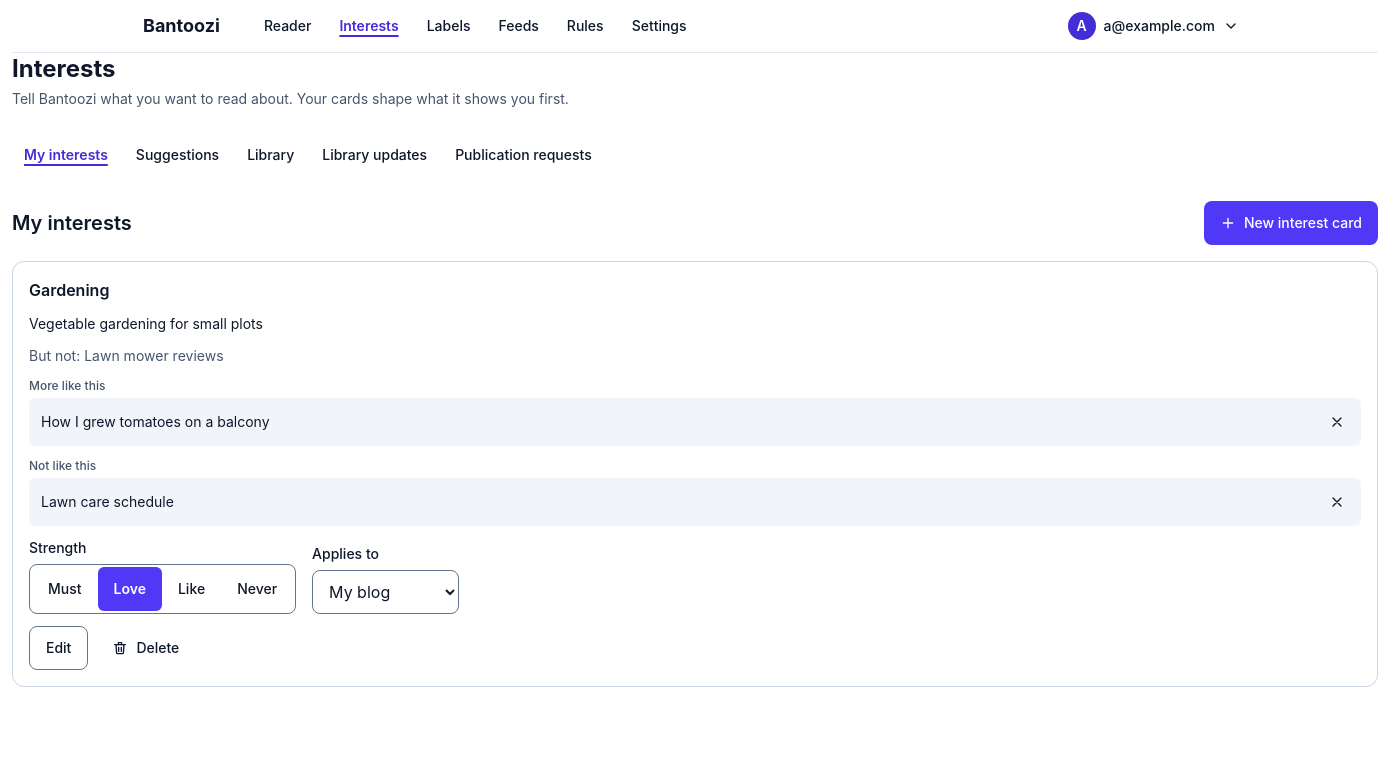
examples › removes an example from either side by its text
The width and height of the screenshot is (1390, 768).
Step 1. Click the button named "Remove example: How I grew tomatoes on a balcony" → coordinates (1337, 422), box [1315, 400, 1359, 444]
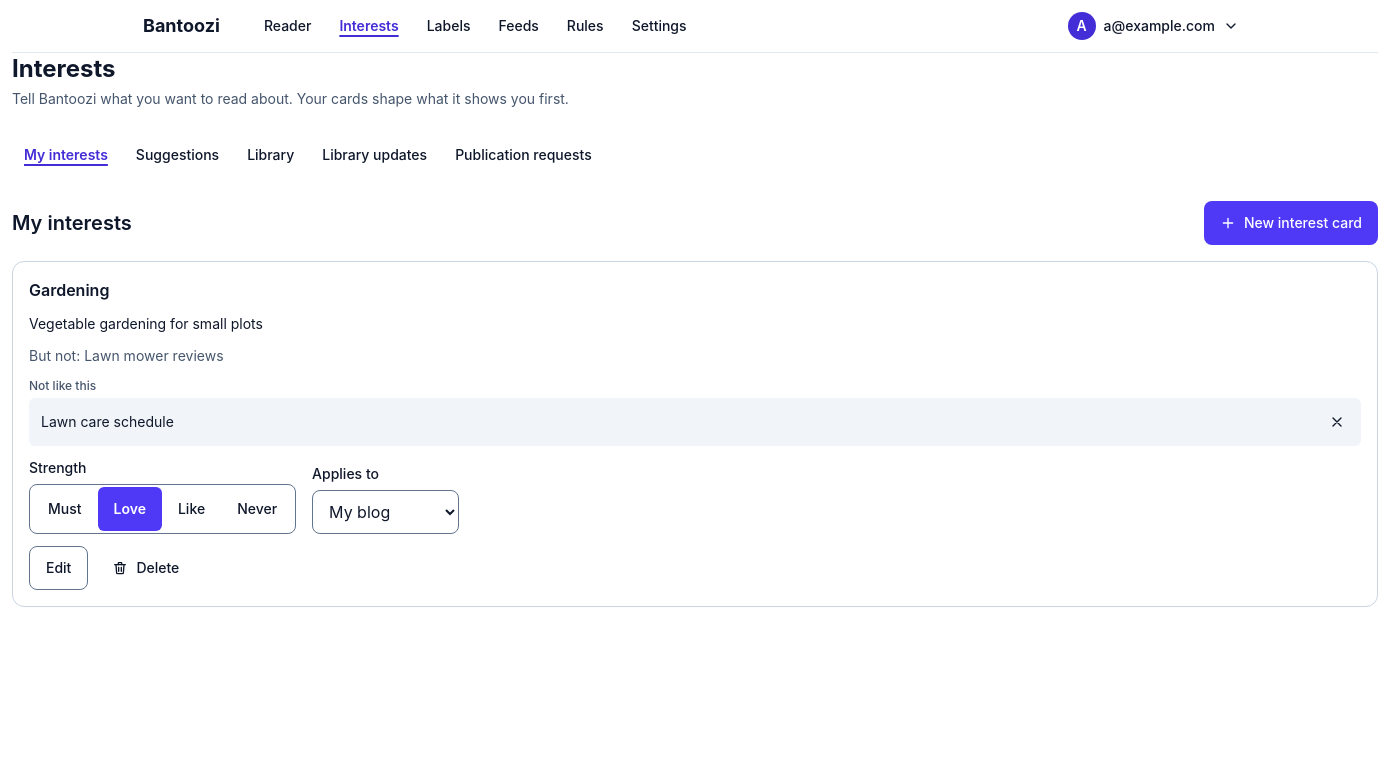
Expected: the text "How I grew tomatoes on a balcony" is gone
Step 2. Click the button named "Remove example: Lawn care schedule" → coordinates (1337, 422), box [1315, 400, 1359, 444]
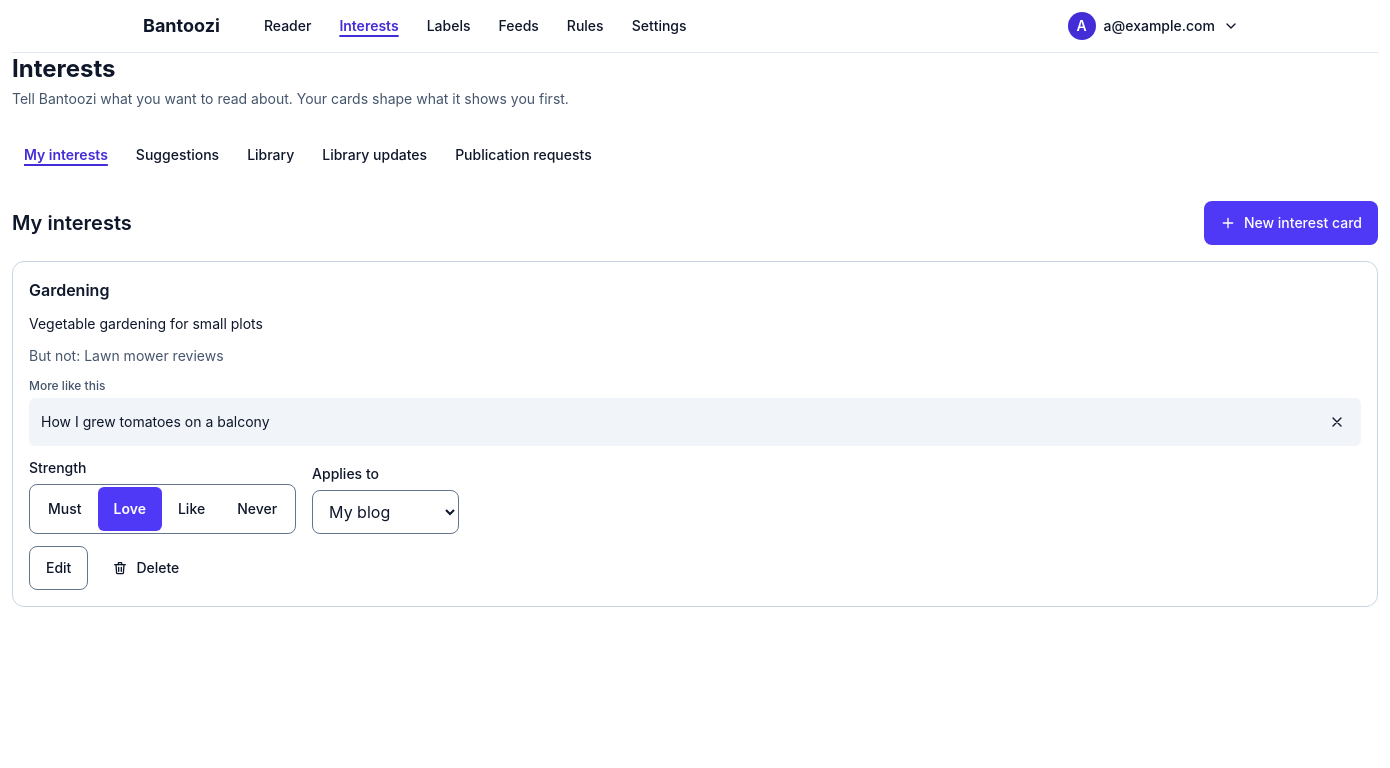
Expected: the text "Lawn care schedule" is gone
